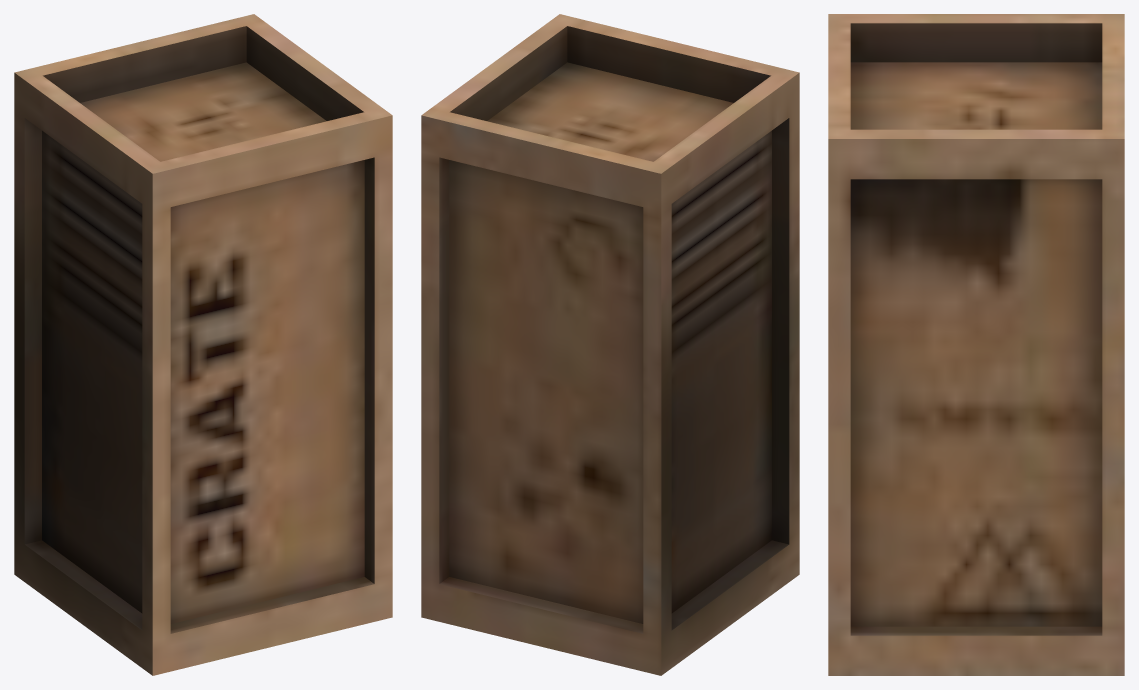
File: Tall Crate1.fbx
3 renders of one model, left to right at view 1: azimuth 30°, elevation 25°; view 2: azimuth 150°, elevation 25°; view 3: azimuth 270°, elevation 25°, orthographic. The views are drawn at different scales.
Parts seen in each view (by area): view 1: Tall Crate1; view 2: Tall Crate1; view 3: Tall Crate1.
Boxes of the visible parts, <box> form: Tall Crate1: <box>14,14,392,675</box>; Tall Crate1: <box>421,14,799,675</box>; Tall Crate1: <box>828,14,1124,675</box>.
Size of the model in its own units: 0.6 by 1.2 by 0.6.
Materials: 1 (1 with a texture image).
